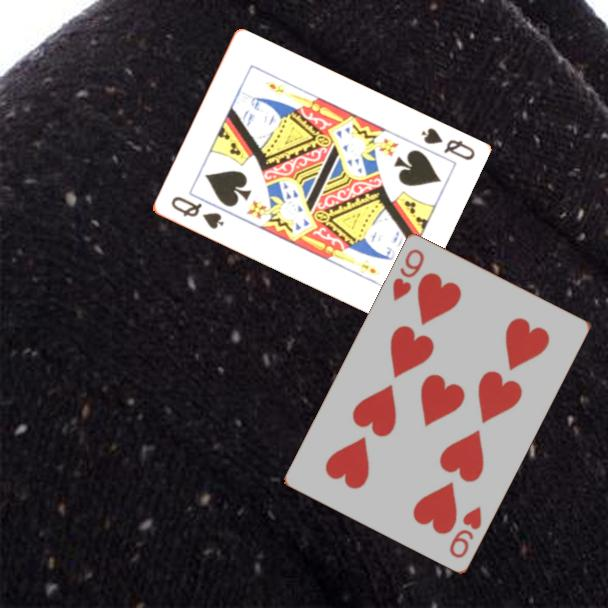h09: (389, 245, 427, 304), (446, 502, 484, 561)
s12: (167, 193, 227, 232), (417, 124, 477, 163)
